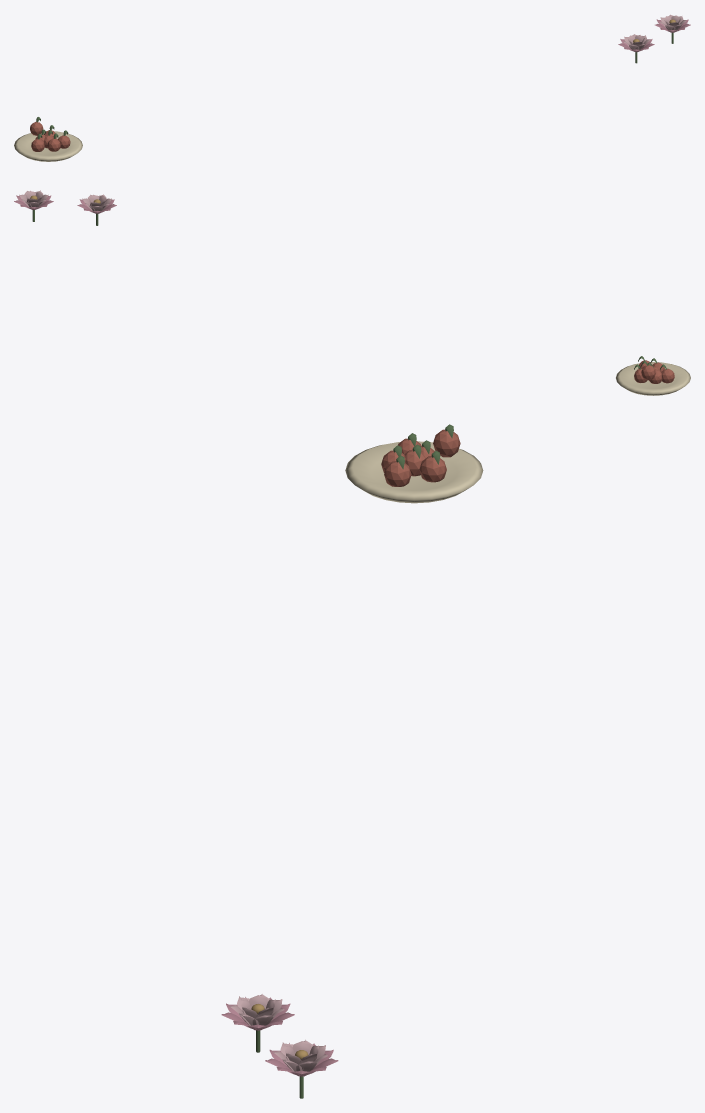
Rendered from season-xiazhi.glb.
The picture shows the model from 3 angles, top to bottom: view 1: azimuth 30°, elevation 25°; view 2: azimuth 150°, elevation 25°; view 3: azimuth 270°, elevation 25°; orthographic projection. The views are drawn at different scales.
Visible parts, largest first — view 1: Season_xiazhi__RT_ExportPalette_0.720_0.000; view 2: Season_xiazhi__RT_ExportPalette_0.720_0.000; view 3: Season_xiazhi__RT_ExportPalette_0.720_0.000.
Boxes of the visible parts, x1=… form: Season_xiazhi__RT_ExportPalette_0.720_0.000: x1=14, y1=14, x2=690, y2=161; Season_xiazhi__RT_ExportPalette_0.720_0.000: x1=14, y1=190, x2=690, y2=395; Season_xiazhi__RT_ExportPalette_0.720_0.000: x1=221, y1=424, x2=483, y2=1098.
Size of the model in its own units: 4.08 by 0.2766 by 0.7204.
